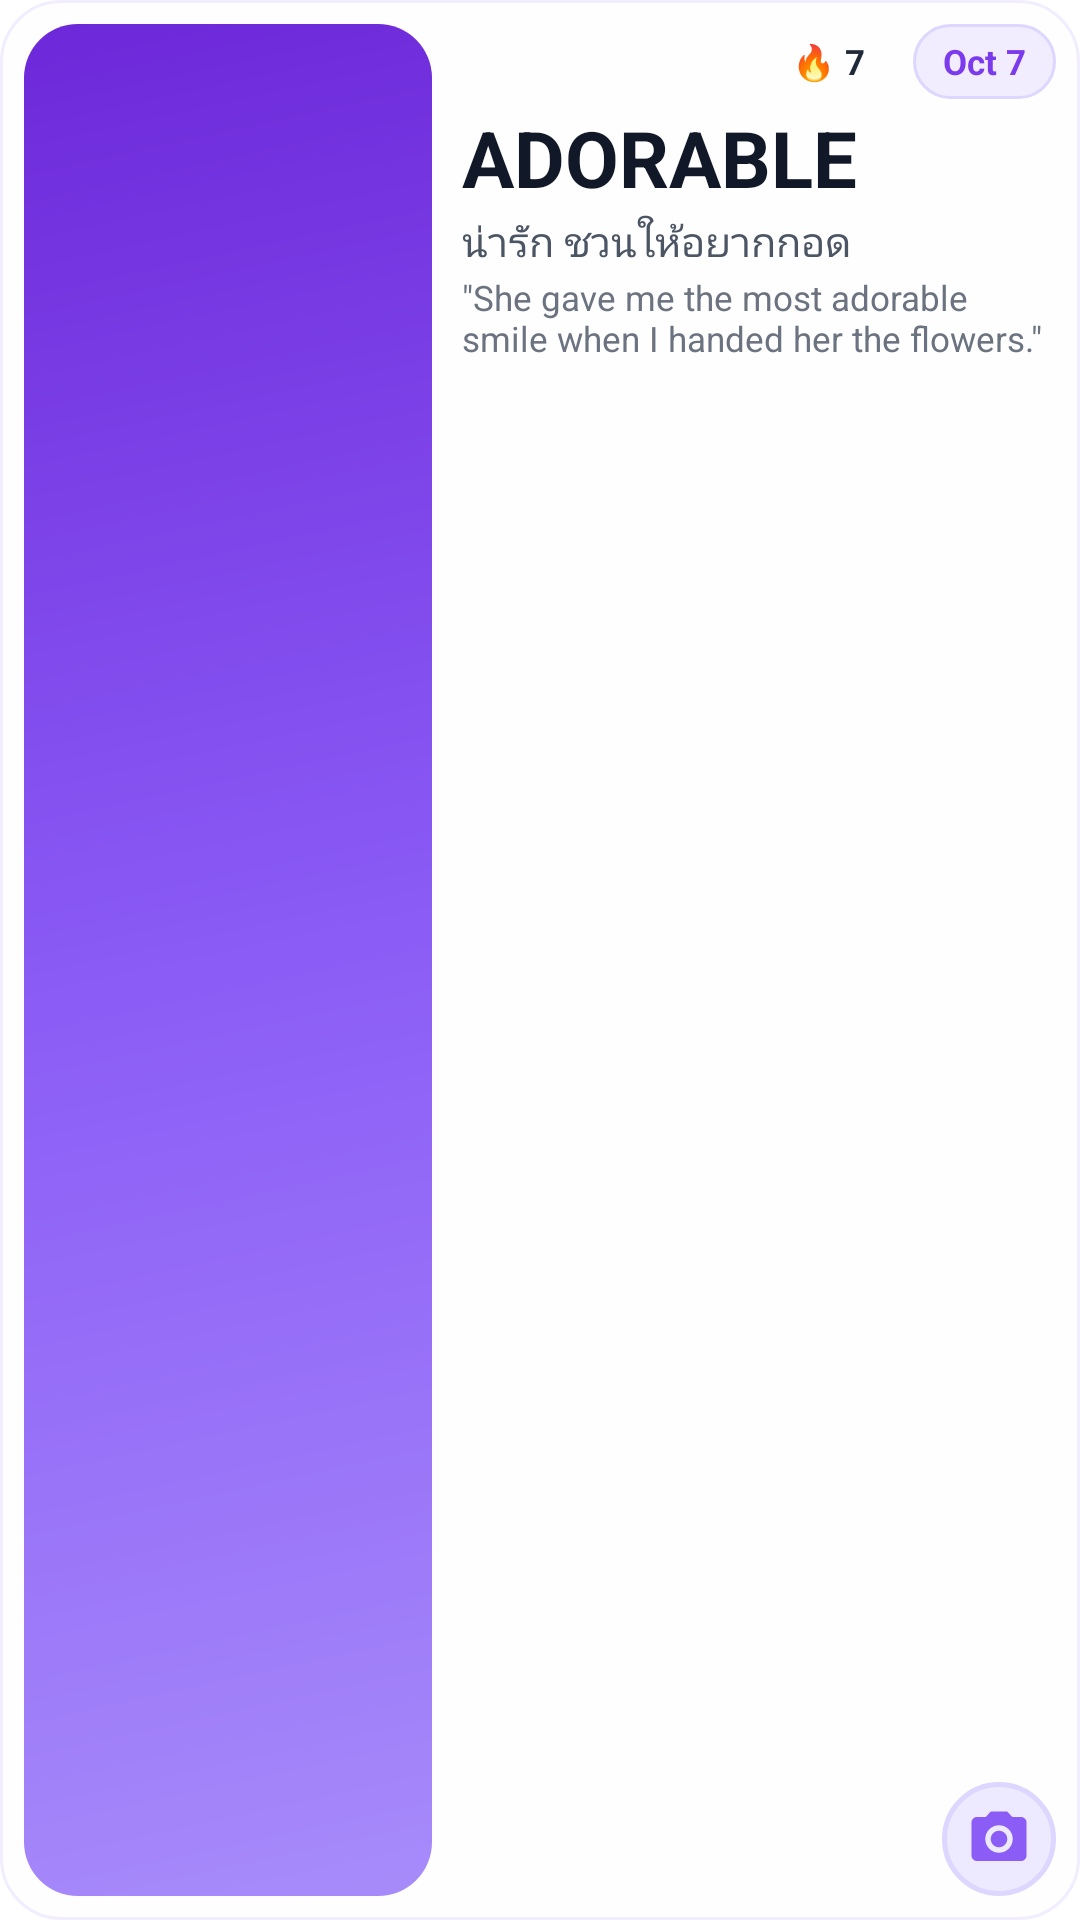

Screen size 1080 × 1920. Icon name, then its box in pixels as box=[x1, y1, x2, y2]:
Take photo: box=[942, 1782, 1056, 1896]
